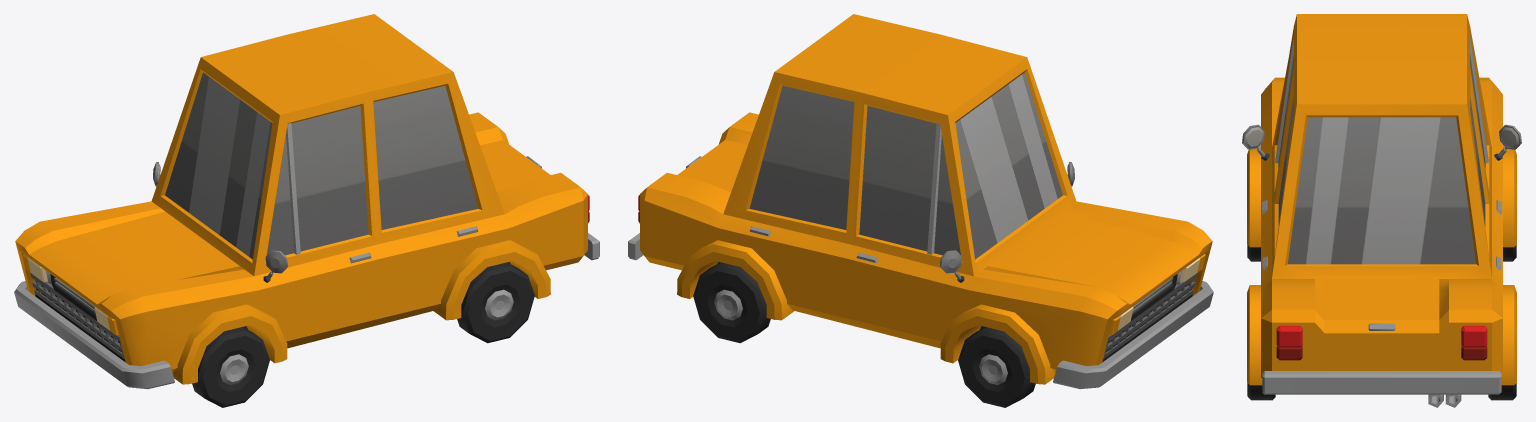
The model's file is Car_4_1_Z.gltf.
3 views of the same model, side by side, from view 1: azimuth 30°, elevation 25°; view 2: azimuth 150°, elevation 25°; view 3: azimuth 270°, elevation 25° (orthographic). The views are drawn at different scales.
Visible parts, largest first — view 1: Car_4_1_Z, RL, FL; view 2: Car_4_1_Z, RR, FR; view 3: Car_4_1_Z, RL, RR.
Part boxes in pixels (x1,y1,x2,y2): Car_4_1_Z: (14, 14, 599, 389); RL: (457, 262, 534, 343); FL: (192, 327, 269, 407); Car_4_1_Z: (628, 14, 1213, 389); RR: (693, 262, 770, 343); FR: (958, 327, 1035, 407); Car_4_1_Z: (1242, 14, 1521, 407); RL: (1247, 383, 1275, 400); RR: (1488, 383, 1516, 400).
Bounding box in the file's own units: 3.53 × 1.81 × 1.65.
Materials: 4 (4 with a texture image).
